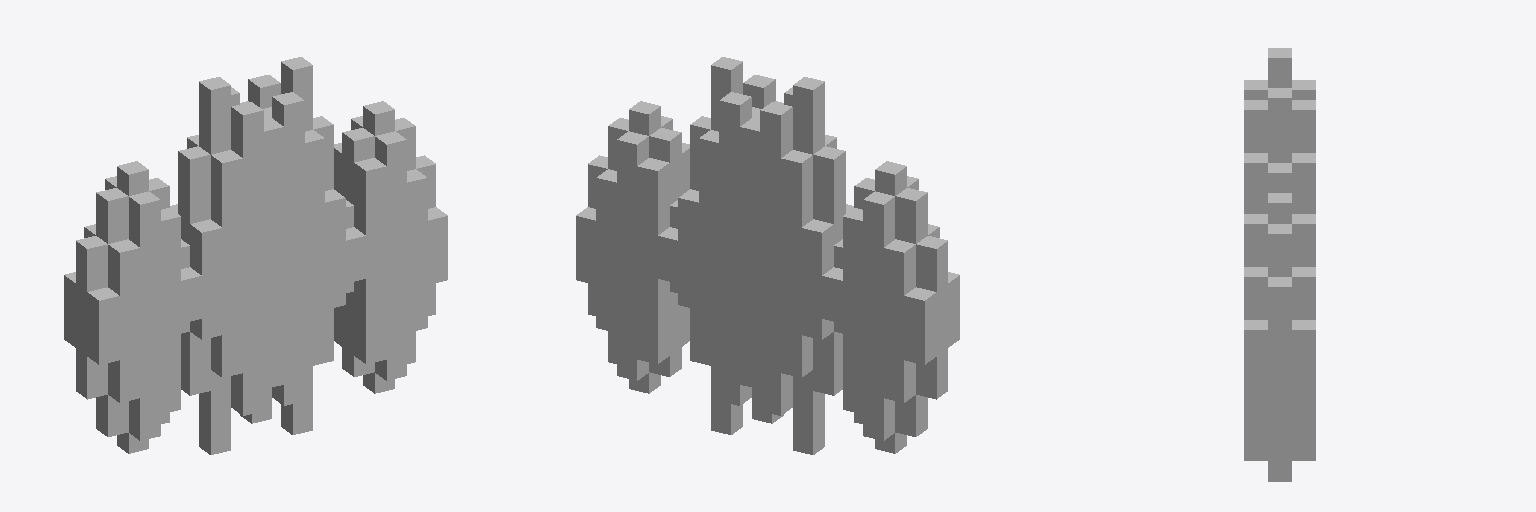
The model's file is ship2.obj.
The picture shows the model from 3 angles: view 1: azimuth 30°, elevation 25°; view 2: azimuth 150°, elevation 25°; view 3: azimuth 270°, elevation 25°; orthographic projection.
Parts seen in each view (by area): view 1: ship2; view 2: ship2; view 3: ship2.
Part boxes in pixels (bbox=[...]): ship2: bbox=[64, 57, 447, 454]; ship2: bbox=[576, 57, 959, 454]; ship2: bbox=[1244, 48, 1315, 481].
Bounding box in the file's own units: 17 × 17 × 3.